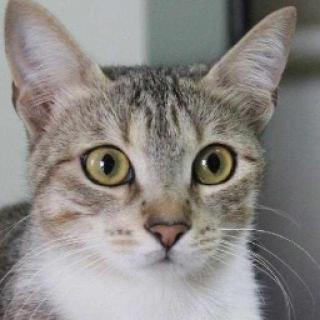cat: (9, 0, 305, 290)
nose: (134, 192, 196, 252)
